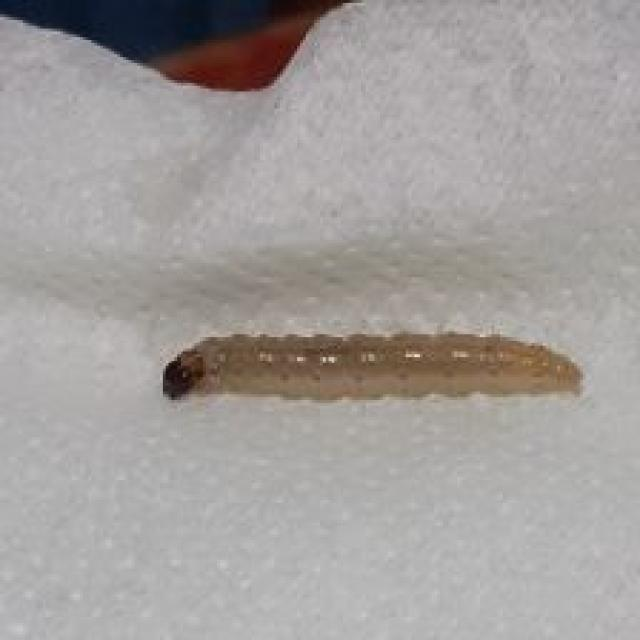white mucus: (150, 314, 595, 413)
